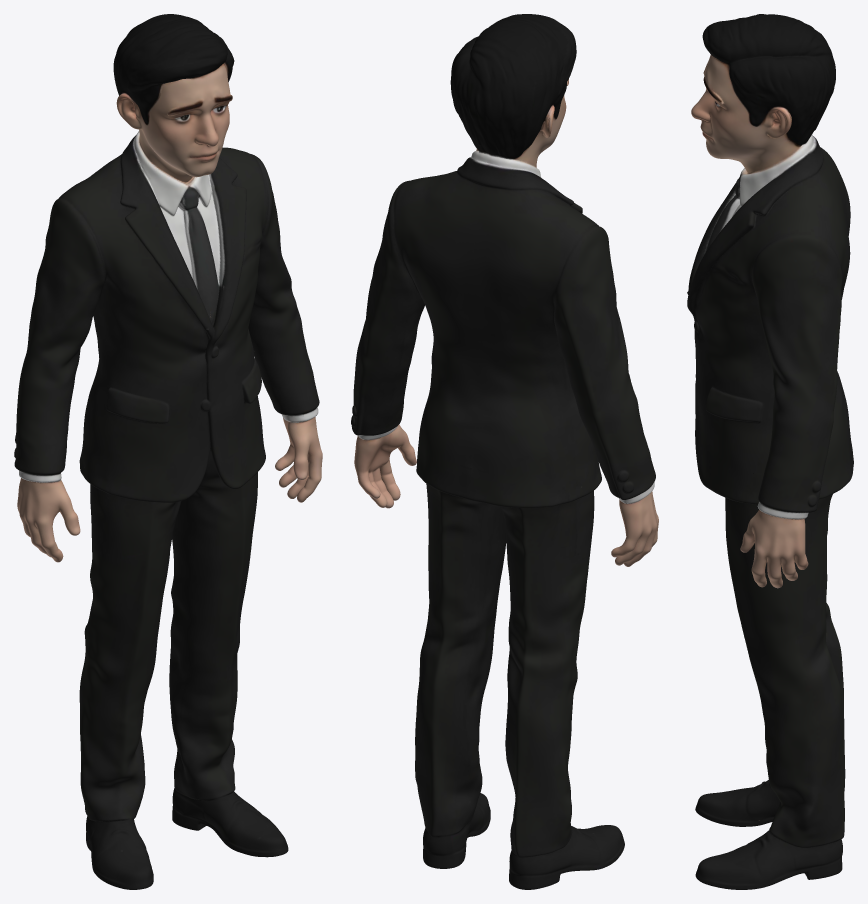
The model's file is 13-el-palacio-encantado-optimized.glb.
3 renders of one model, left to right at view 1: azimuth 30°, elevation 25°; view 2: azimuth 150°, elevation 25°; view 3: azimuth 270°, elevation 25°, orthographic.
Parts seen in each view (by area): view 1: tripo_node_0b928ab7-5bf8-44ac-91cf-39aa64791816; view 2: tripo_node_0b928ab7-5bf8-44ac-91cf-39aa64791816; view 3: tripo_node_0b928ab7-5bf8-44ac-91cf-39aa64791816.
Part boxes in pixels (<box>): tripo_node_0b928ab7-5bf8-44ac-91cf-39aa64791816: <box>14,14,322,889</box>; tripo_node_0b928ab7-5bf8-44ac-91cf-39aa64791816: <box>351,14,658,889</box>; tripo_node_0b928ab7-5bf8-44ac-91cf-39aa64791816: <box>687,14,853,889</box>.
Size of the model in its own units: 0.3734 by 1 by 0.1824.
Materials: 1 (1 with a texture image).
